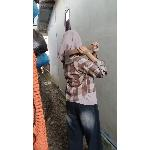Kapak: (61, 42, 102, 66)
